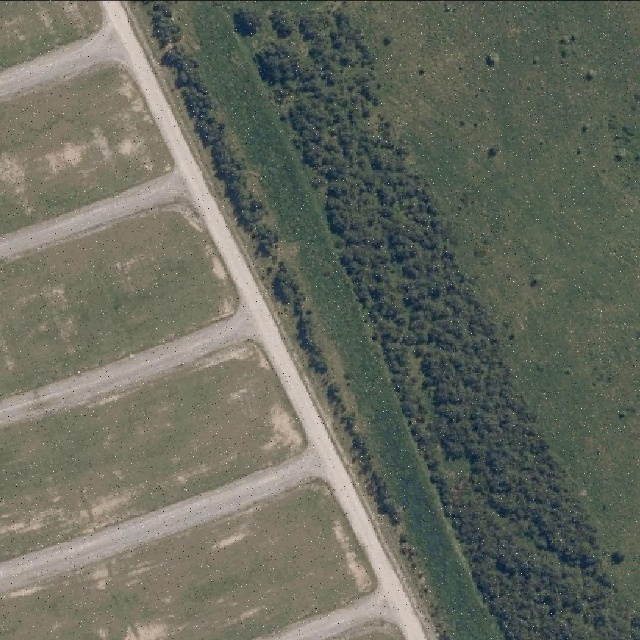vegetation: (231, 4, 640, 640), (141, 0, 454, 640)
